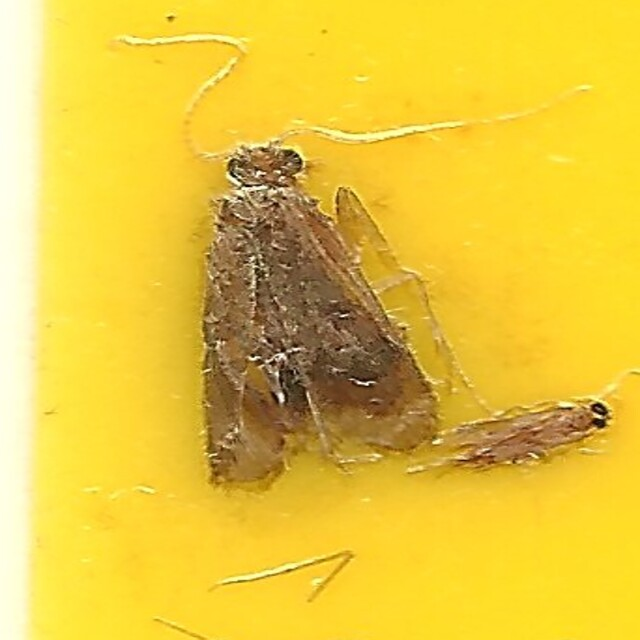Trichoptera: (187, 140, 453, 500)
